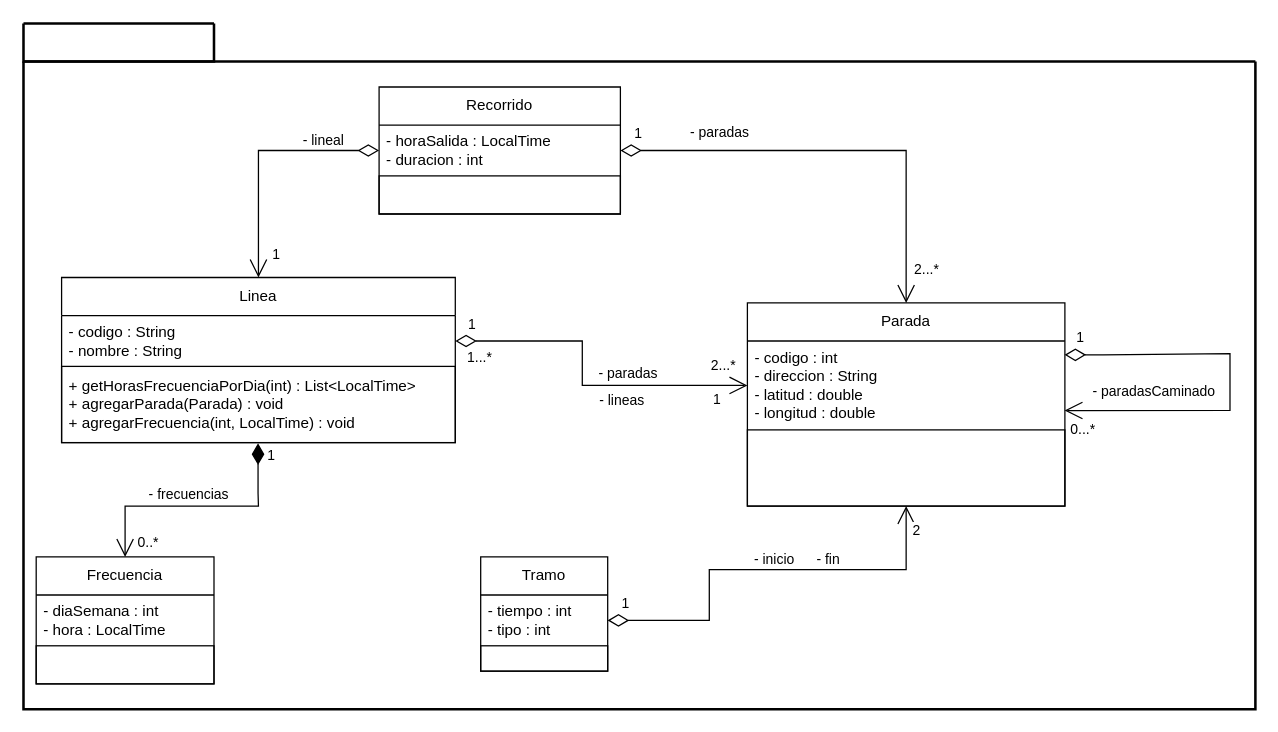
Image size: 1278x732. Some labels were removed from this diagram. The shapes that lost their labels are listed below. From the top down, each one's centre as x and y in pixels, then its label:
At pixel 118 42: "Modelo".
At pixel 905 467: "+ agregarLinea(Linea) : void + agregarParadaCaminado(Parada) : void".
